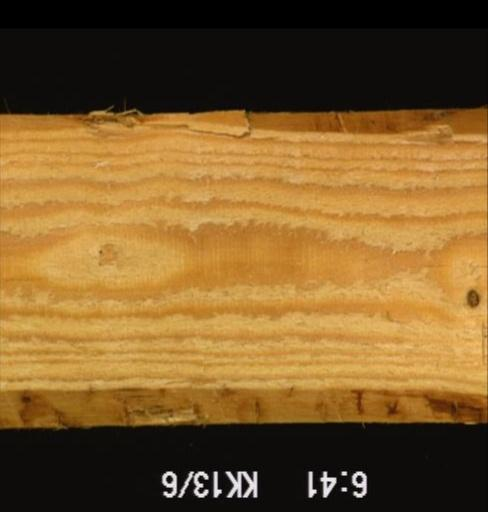dry_knot: (462, 286, 483, 311)
wave: (0, 380, 485, 428), (44, 105, 485, 155)
